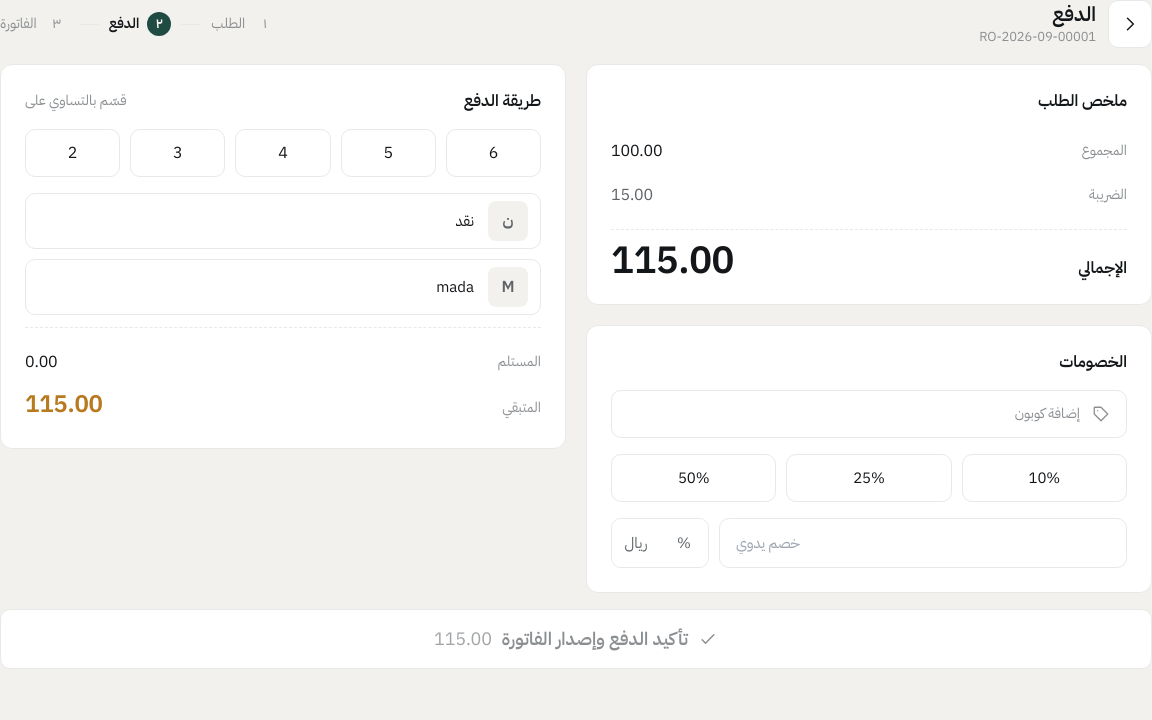
Test: what the payment screen lets a cashier reach › confirms once the bill is covered
Click the button "ن نقد" at [508, 221], box [25,193,541,249]
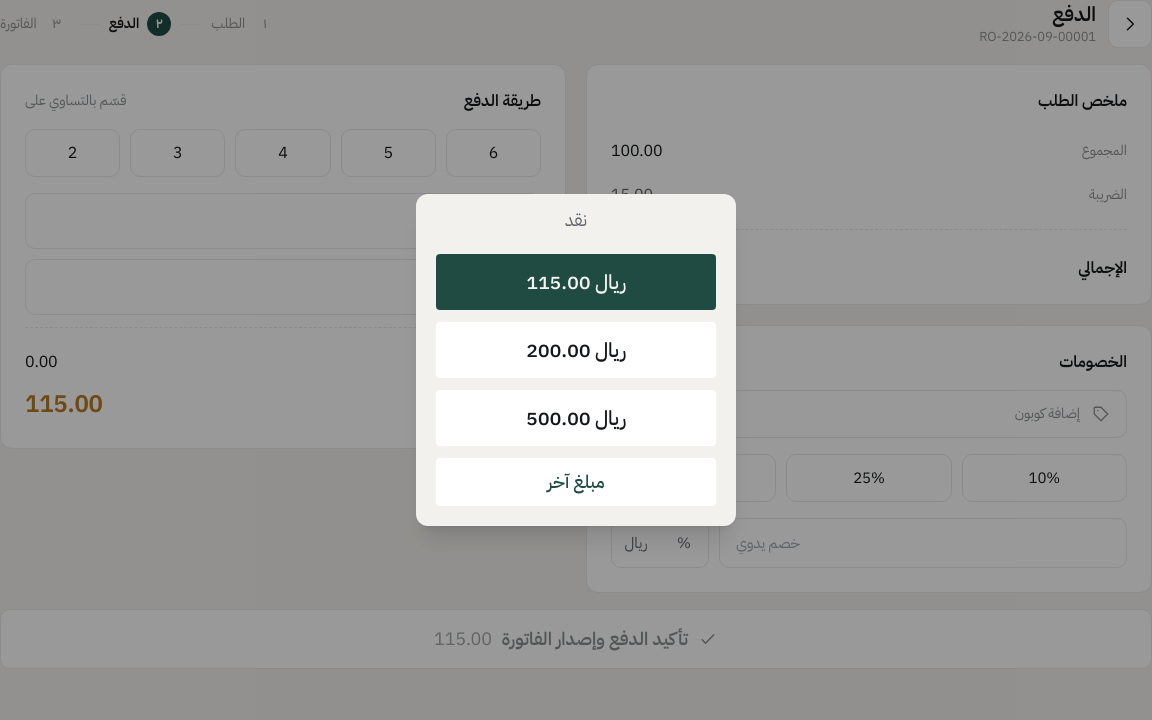
Click the button "115.00 ريال" at [576, 282], box [436,254,716,310]
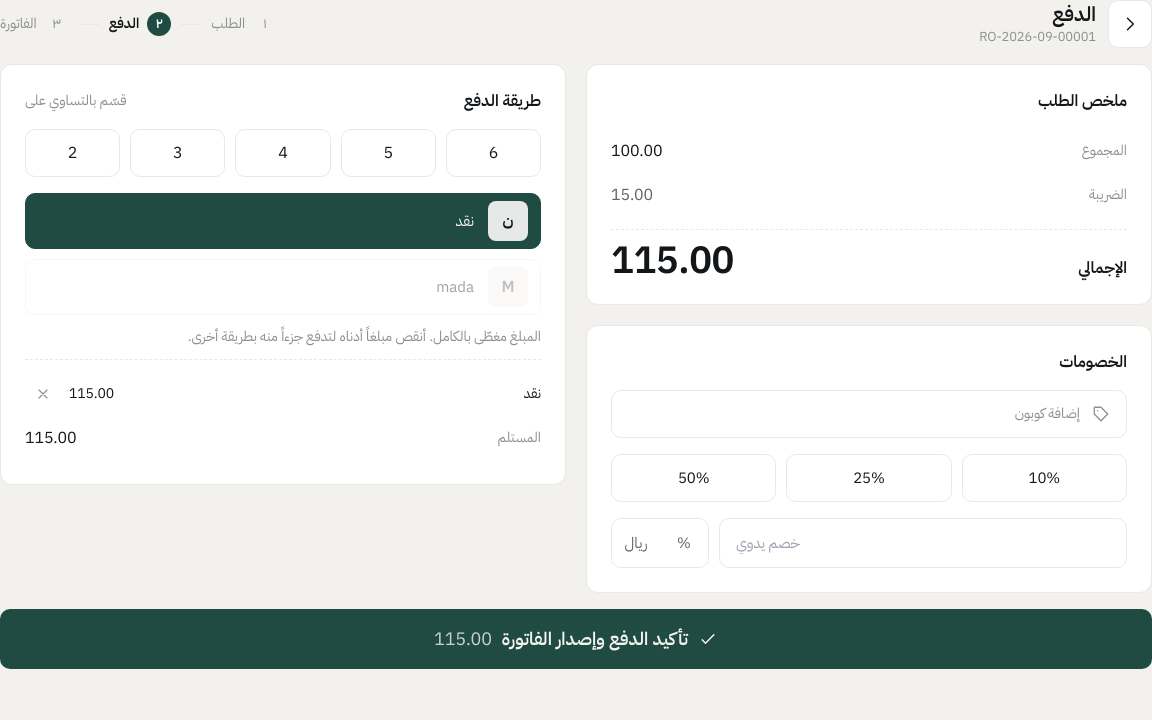
Expected: the button "تأكيد الدفع وإصدار الفاتورة 115.00" is enabled, [0,609,1151,669]
